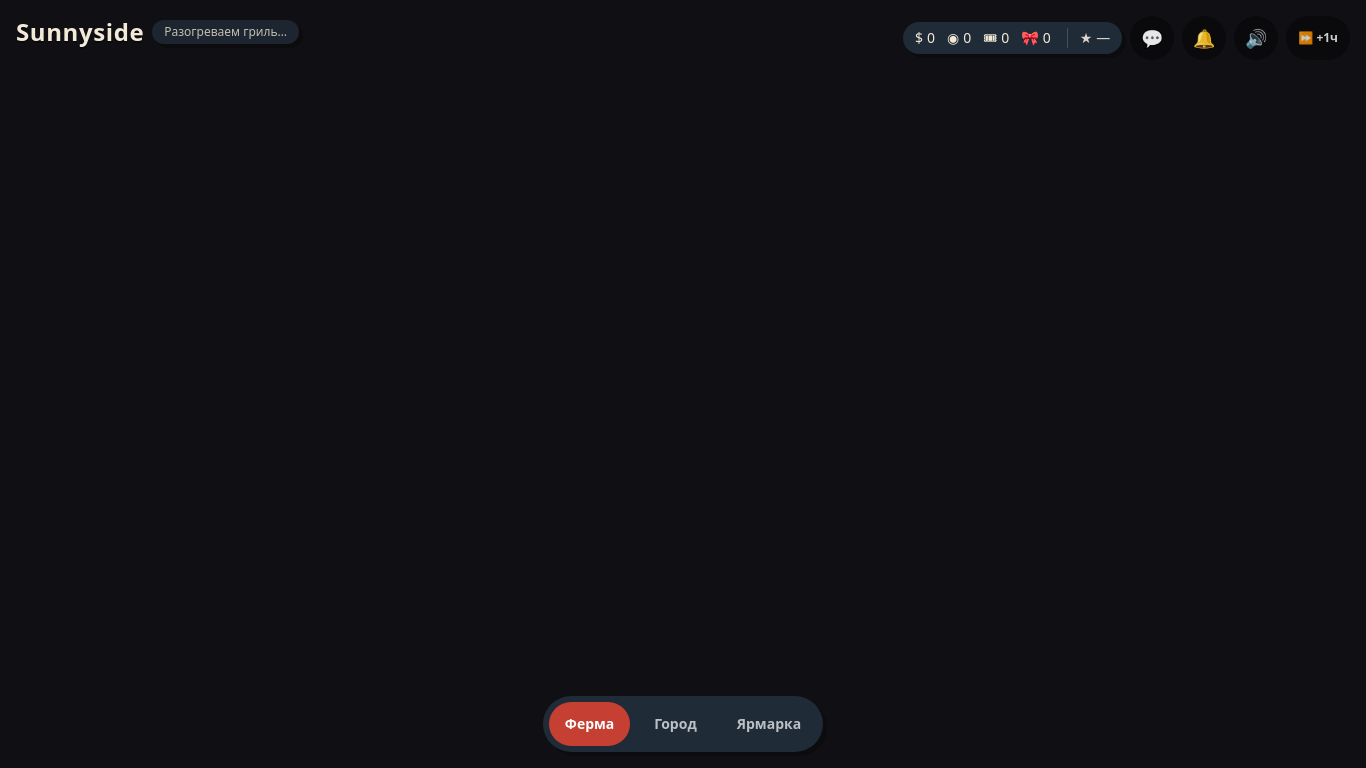
Scenario: HudRoot › пустая лента уведомлений показывает тёплый empty-state
Click the button with test id "notif-bell" at x=1204, y=38, box [1182,16,1226,60]
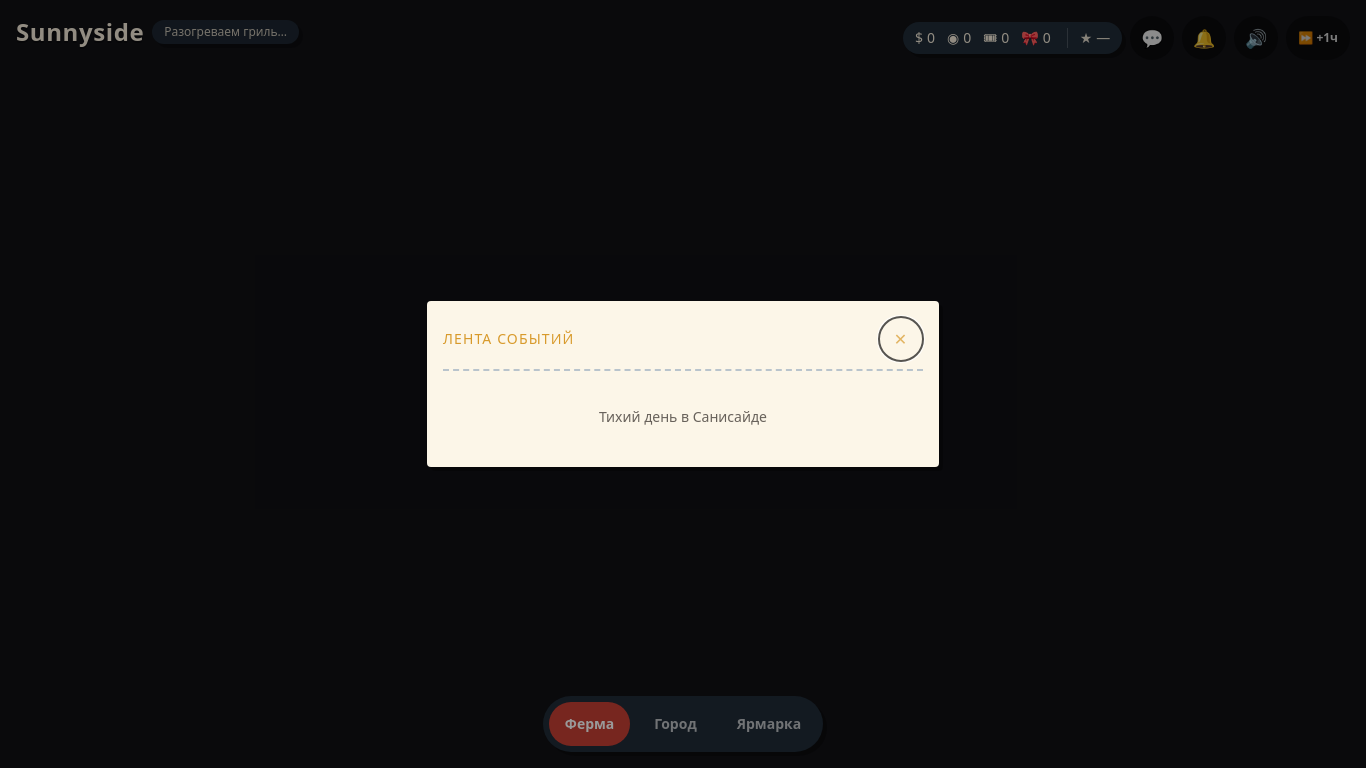
Now the text with test id "notif-empty" reads "Тихий день в Санисайде", box [599,407,767,426]
